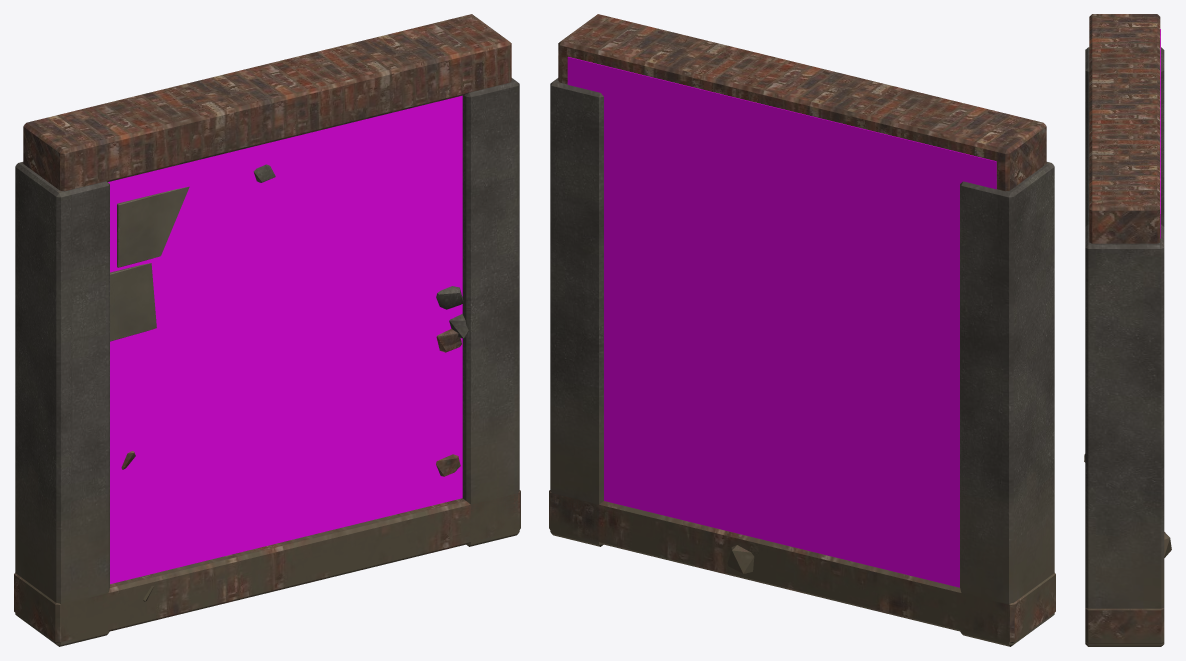
Rendered from prop_barricade_window.glb.
3 renders of one model, left to right at view 1: azimuth 30°, elevation 25°; view 2: azimuth 150°, elevation 25°; view 3: azimuth 270°, elevation 25°, orthographic. The views are drawn at different scales.
Parts seen in each view (by area): view 1: prop_barricade_window-col, Frame, Board_06, Board_05; view 2: prop_barricade_window-col, Frame; view 3: Frame, prop_barricade_window-col.
Part boxes in pixels (left/top/right/bottom): prop_barricade_window-col: left=108, top=95, right=462, bottom=583; Frame: left=14, top=14, right=520, bottom=646; Board_06: left=117, top=186, right=189, bottom=267; Board_05: left=110, top=263, right=156, bottom=341; prop_barricade_window-col: left=567, top=57, right=996, bottom=587; Frame: left=549, top=14, right=1055, bottom=646; Frame: left=1084, top=14, right=1171, bottom=646; prop_barricade_window-col: left=1160, top=29, right=1160, bottom=238.
Bounding box in the file's own units: 1.57 × 1.62 × 0.289.
3 materials, 2 textured.
